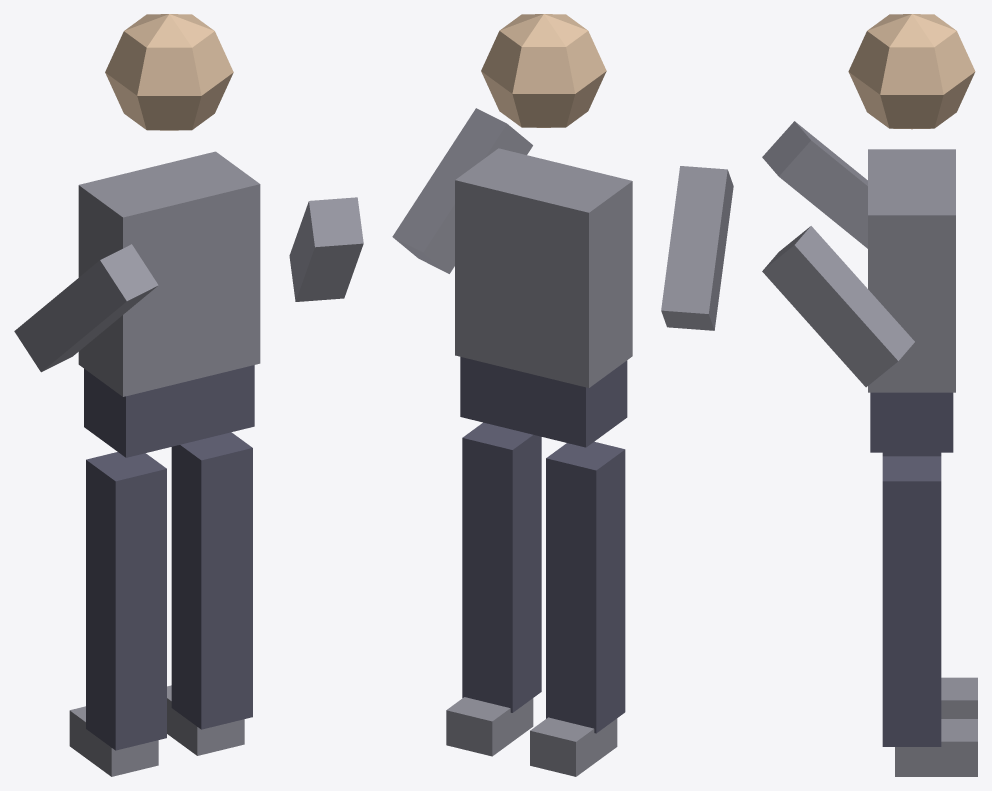
Rendered from espectador_aplaudiendo.glb.
3 renders of one model, left to right at view 1: azimuth 30°, elevation 25°; view 2: azimuth 150°, elevation 25°; view 3: azimuth 270°, elevation 25°, orthographic. The views are drawn at different scales.
Visible parts, largest first — view 1: espectador_aplaudiendo; view 2: espectador_aplaudiendo; view 3: espectador_aplaudiendo.
Boxes of the visible parts, x1,y1,x2,y2 form: espectador_aplaudiendo: (14,14,363,776); espectador_aplaudiendo: (392,14,733,776); espectador_aplaudiendo: (762,14,977,776).
Bounding box in the file's own units: 0.7555 × 1.65 × 0.4416.
